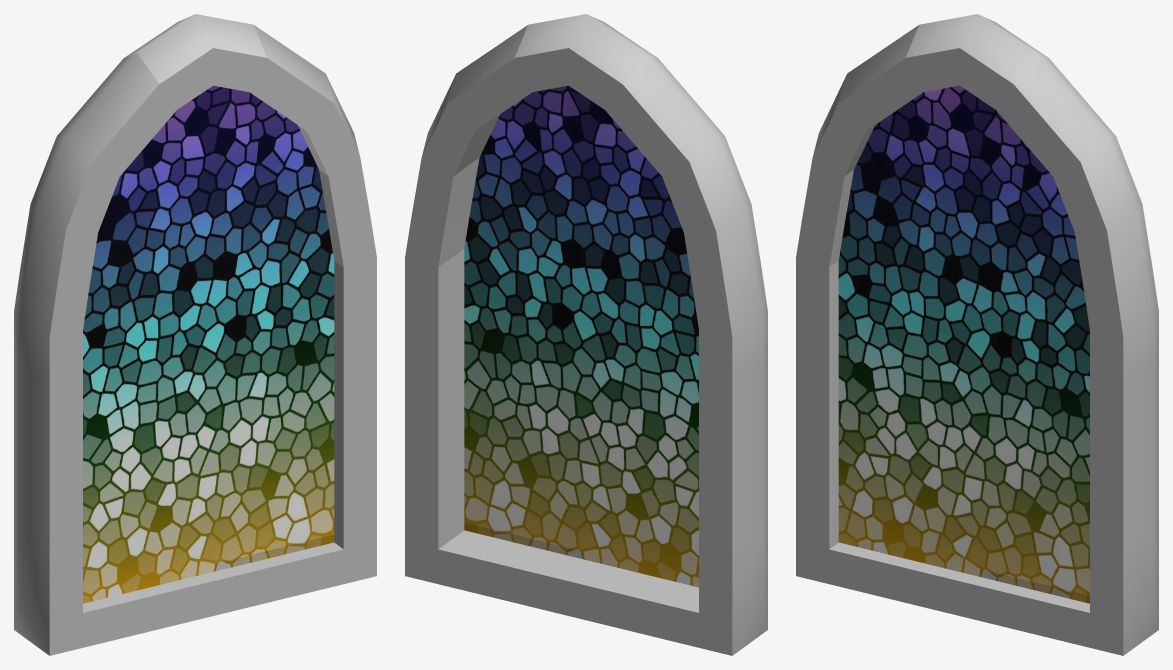
The model's file is vidriera.fbx.
The picture shows the model from 3 angles, left to right: view 1: azimuth 30°, elevation 25°; view 2: azimuth 150°, elevation 25°; view 3: azimuth 330°, elevation 25°; orthographic projection.
Parts seen in each view (by area): view 1: Box005; view 2: Box005; view 3: Box005.
Part boxes in pixels (box(x1,y1,x2,y2)): Box005: box(14, 14, 376, 655); Box005: box(405, 14, 767, 655); Box005: box(796, 14, 1158, 655).
Bounding box in the file's own units: 6.25 × 9.98 × 1.09.
